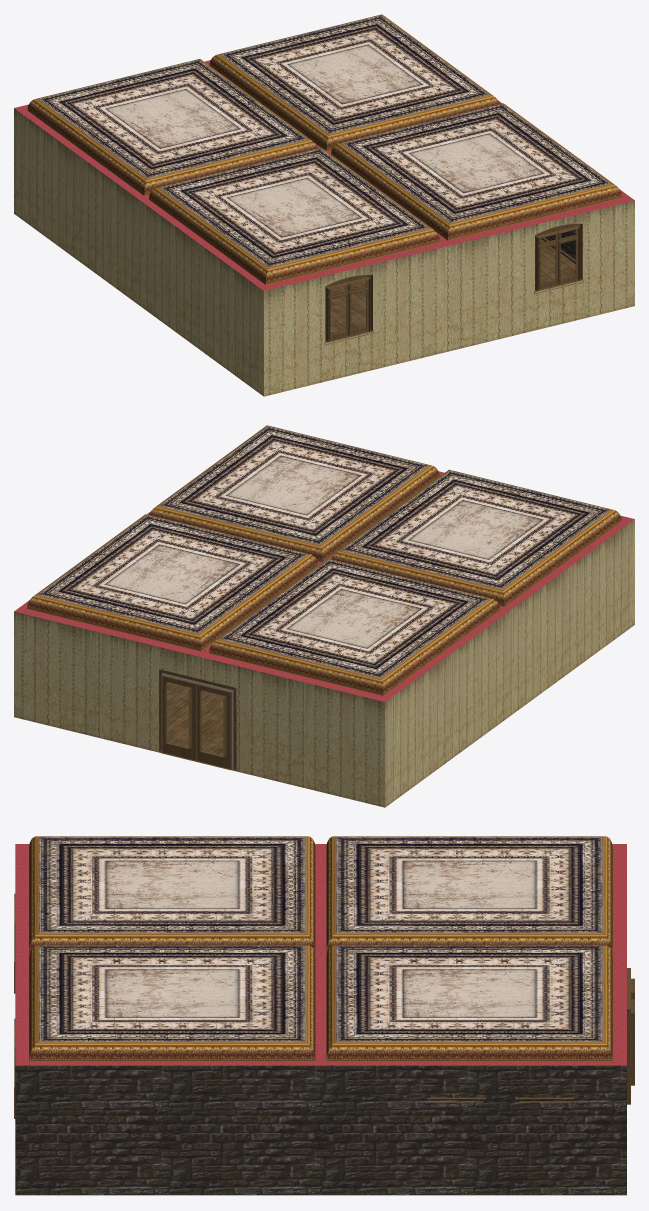
Rendered from Pub01.fbx.
3 views of the same model, one above another, from view 1: azimuth 30°, elevation 25°; view 2: azimuth 150°, elevation 25°; view 3: azimuth 270°, elevation 25° (orthographic). The views are drawn at different scales.
Parts seen in each view (by area): view 1: U3DMesh; view 2: U3DMesh; view 3: U3DMesh.
Part boxes in pixels (box(x1,y1,x2,y2)): U3DMesh: box(14, 14, 634, 396); U3DMesh: box(14, 425, 634, 807); U3DMesh: box(14, 836, 634, 1195).
Size of the model in its own units: 10.15 by 3.08 by 11.94.
